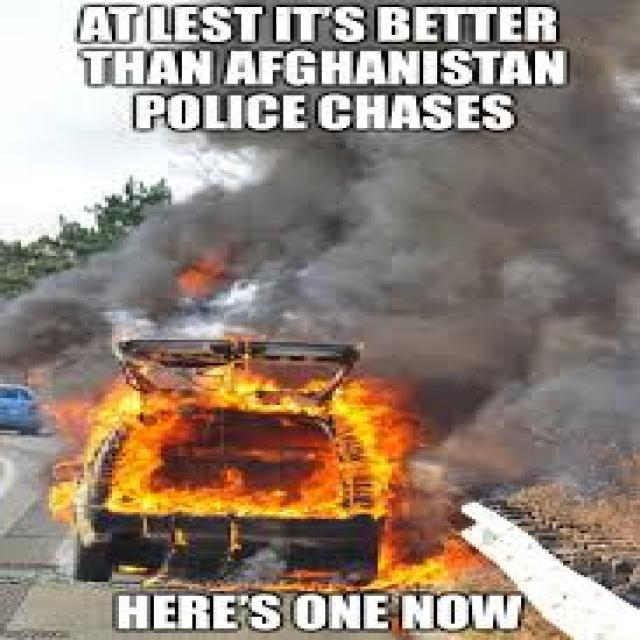fire: (42, 347, 472, 596)
